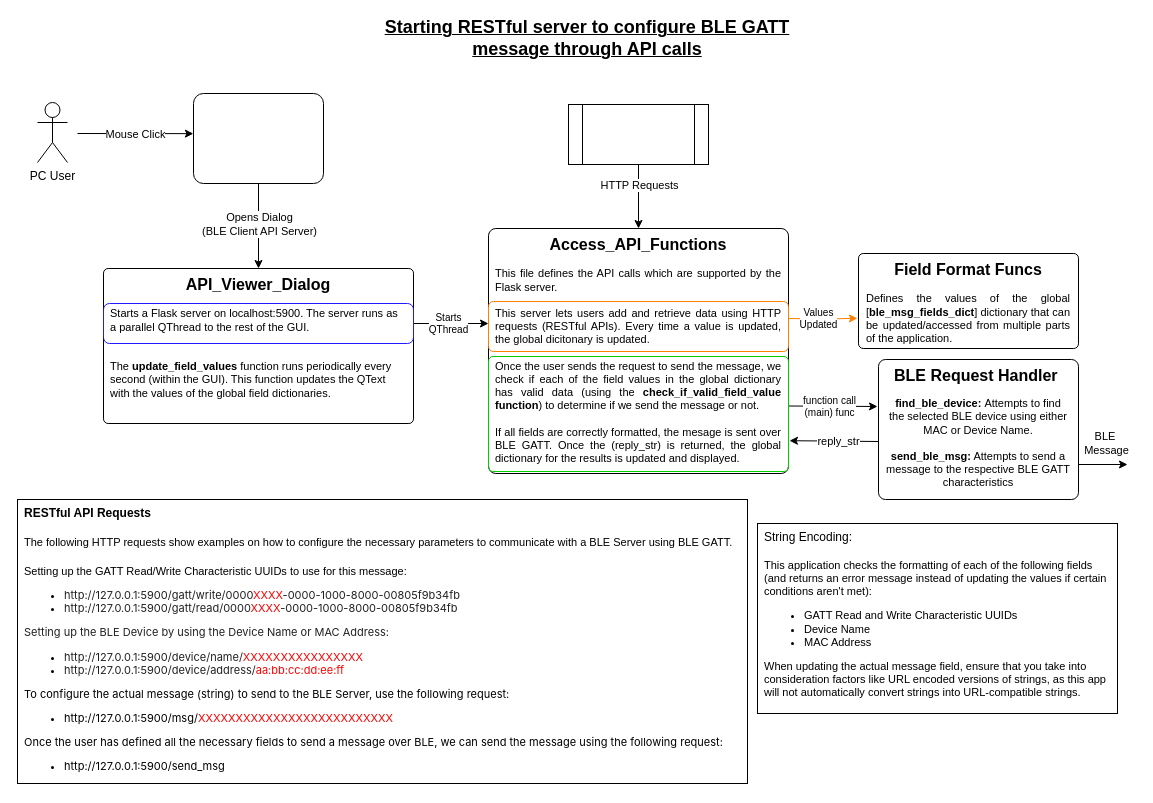
The diagram is 1153 pixels wide and 803 high, and some of its shapes have lost their labels. Each missing label, with the centre of its shape:
"BLE_Client Init_Dialog" belongs at (x=258, y=138).
"External Applications" belongs at (x=638, y=134).
